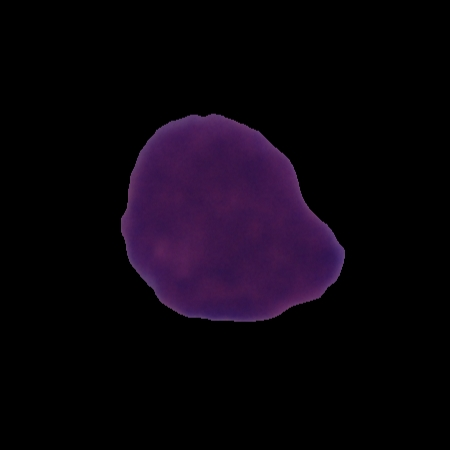ALL: (117, 109, 349, 326)
